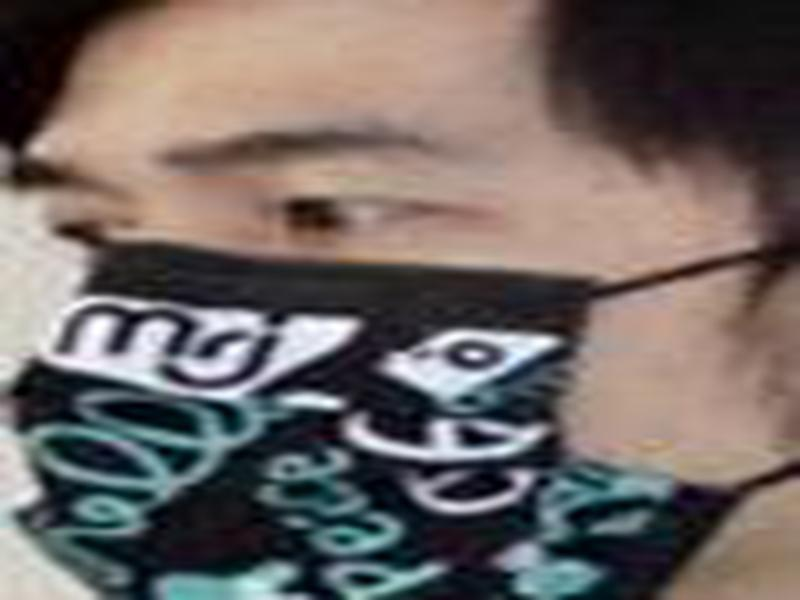with_mask: (1, 1, 795, 600)
